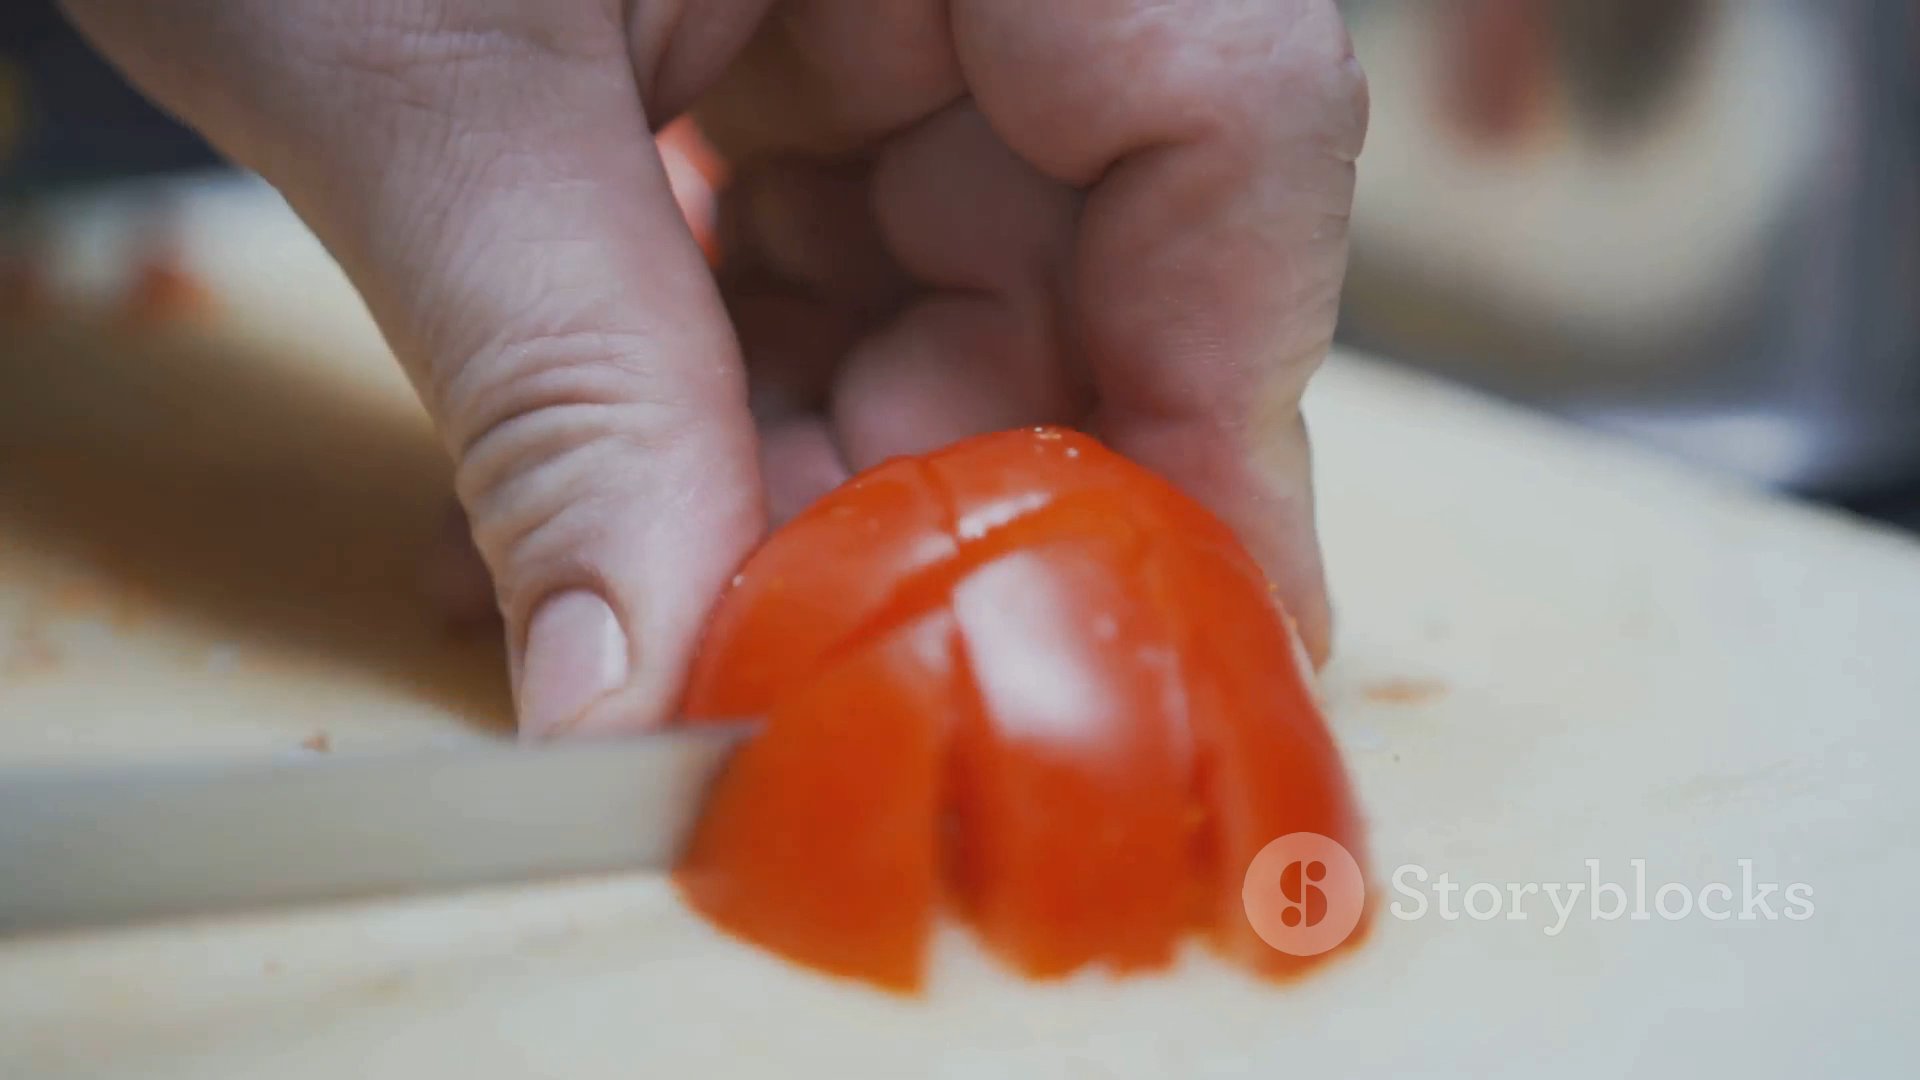cortante: (0, 728, 778, 955)
